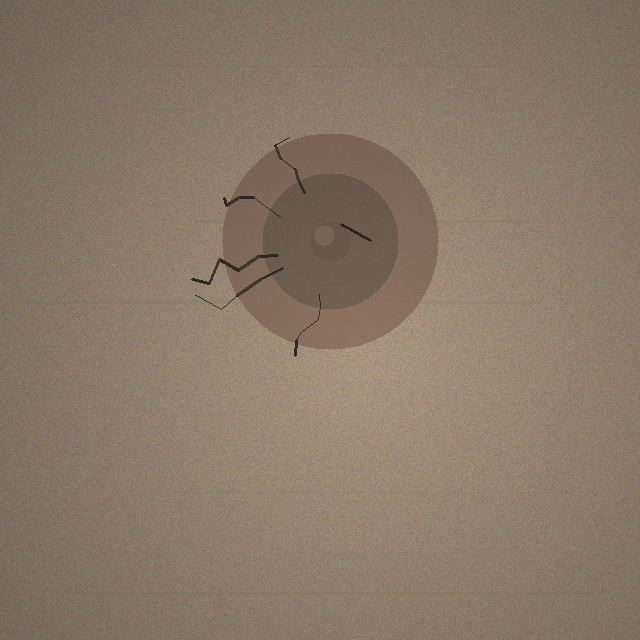crack: (222, 133, 438, 349)
